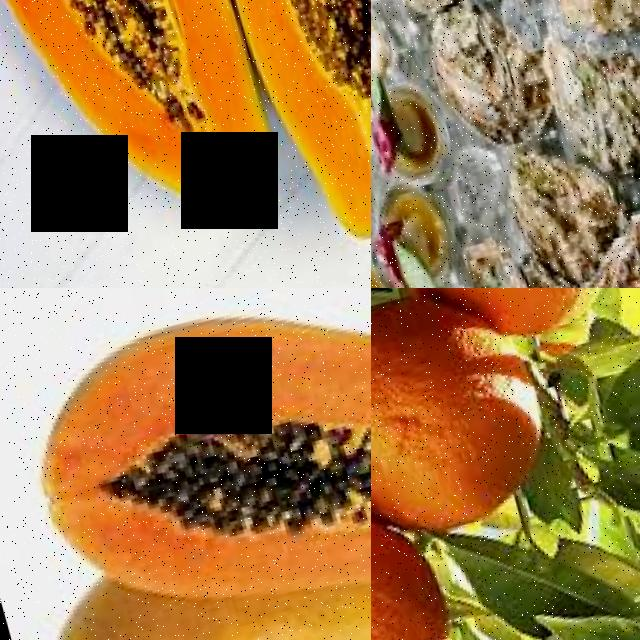orange: (371, 288, 554, 557), (401, 288, 640, 358)
oysters: (422, 9, 563, 157), (495, 141, 626, 288), (539, 38, 640, 195), (530, 0, 640, 54)
pawpaw: (8, 288, 371, 640), (0, 0, 282, 266), (175, 0, 371, 273), (26, 563, 371, 640)
